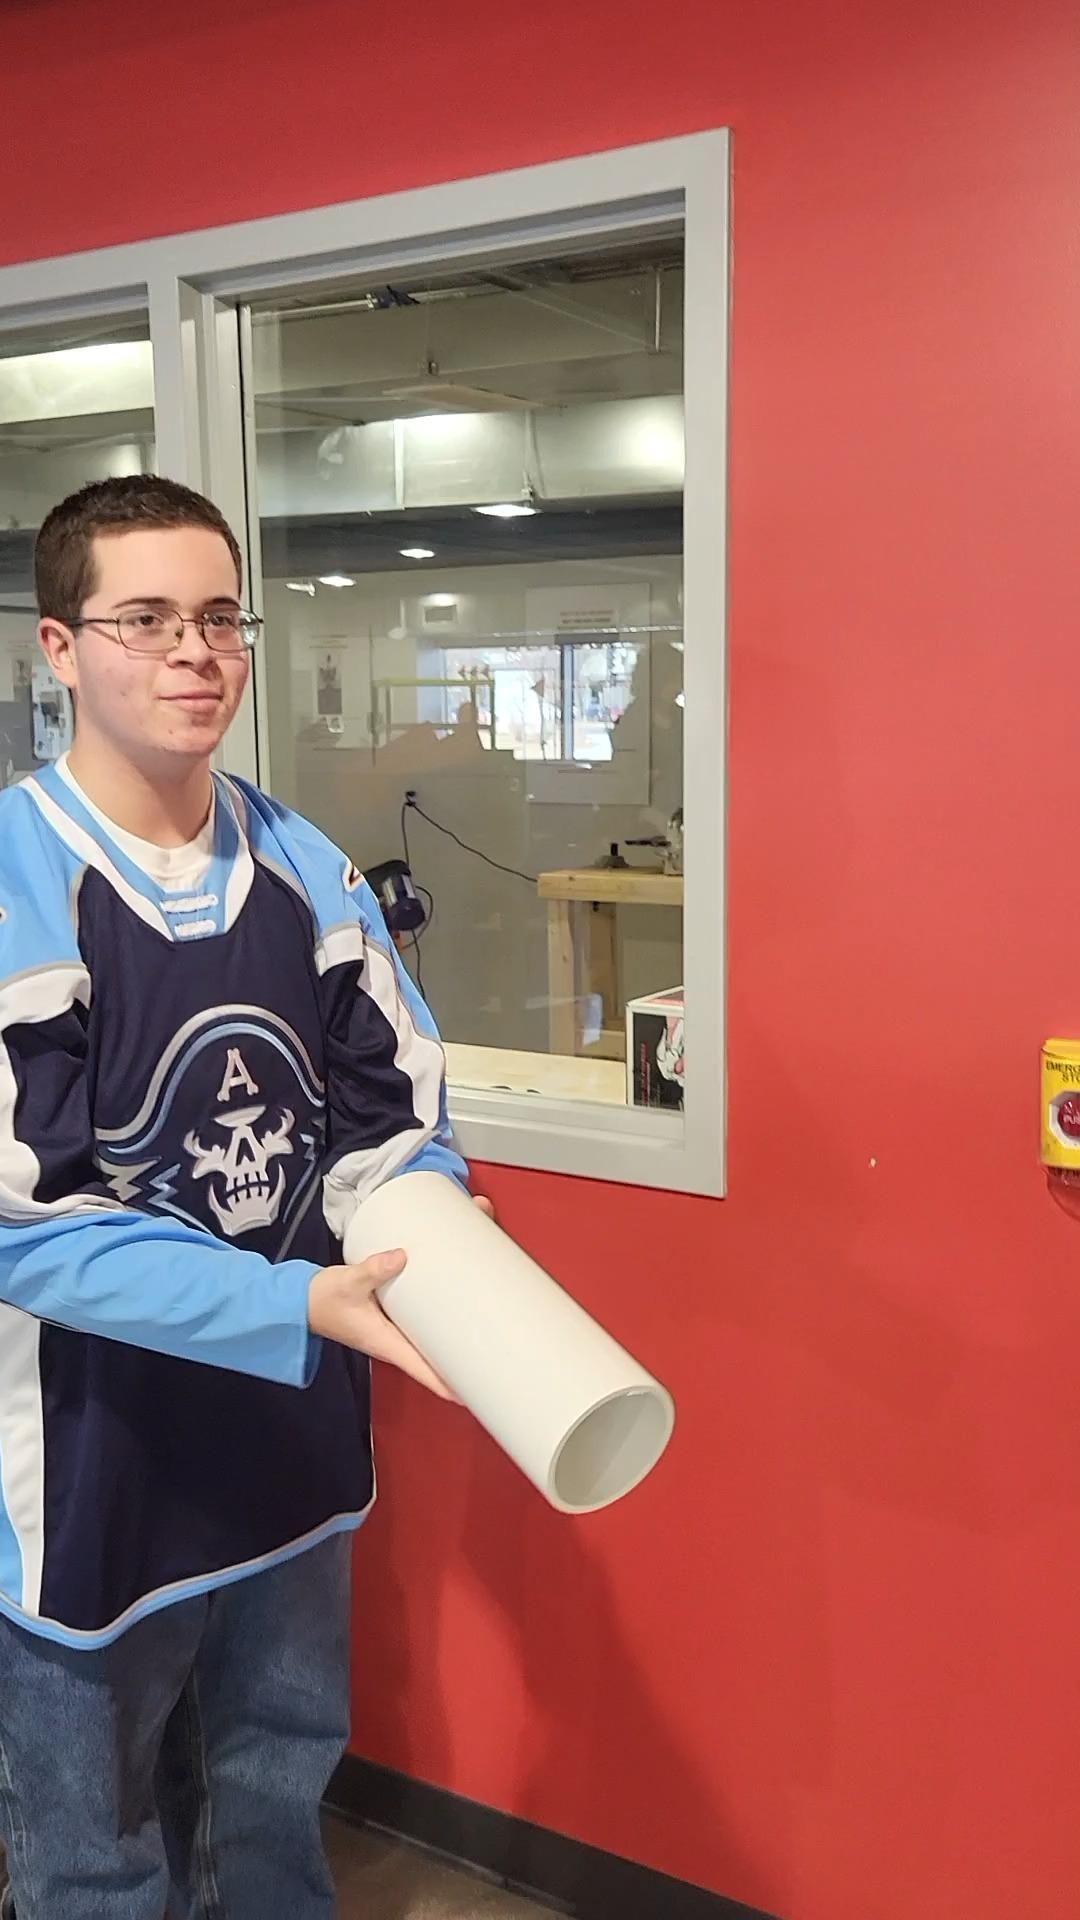coral: (343, 1160, 694, 1520)
